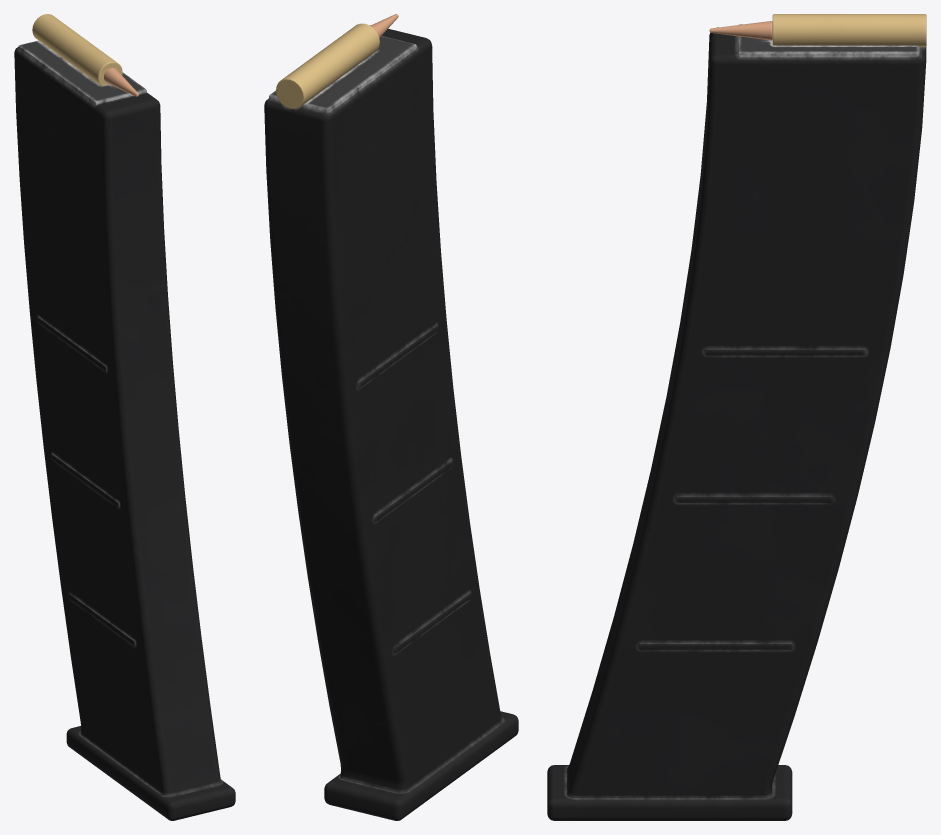
The model's file is mag_ar40.glb.
3 views of the same model, side by side, from view 1: azimuth 30°, elevation 25°; view 2: azimuth 150°, elevation 25°; view 3: azimuth 270°, elevation 25° (orthographic). The views are drawn at different scales.
Parts seen in each view (by area): view 1: body; view 2: body; view 3: body.
Boxes of the visible parts, x1,y1,x2,y2 form: body: (14,14,235,820); body: (264,14,518,820); body: (547,14,926,820).
Bounding box in the file's own units: 0.026 × 0.2493 × 0.1084.
Materials: 1 (1 with a texture image).
